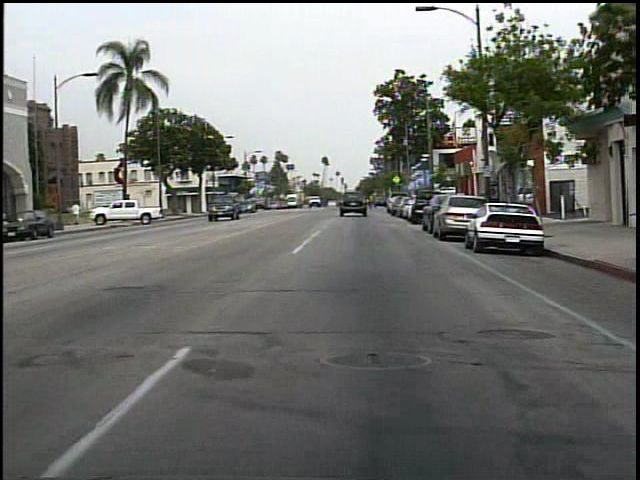person: (71, 199, 85, 228), (370, 189, 382, 214)
